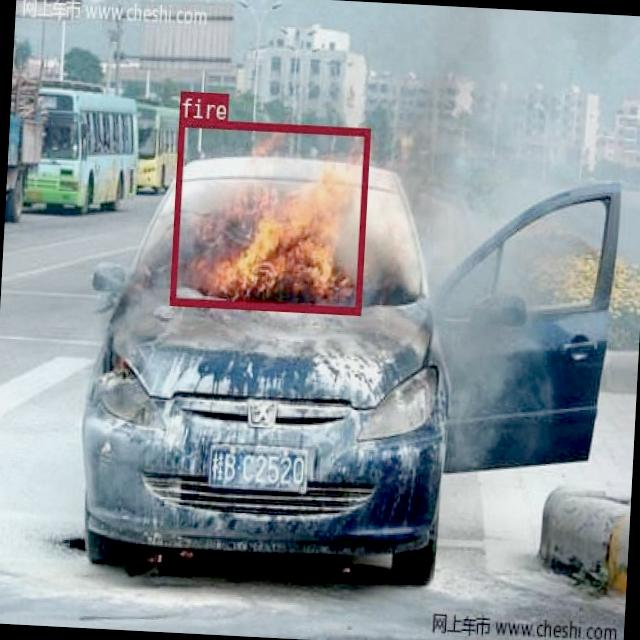fire: (170, 118, 369, 313)
